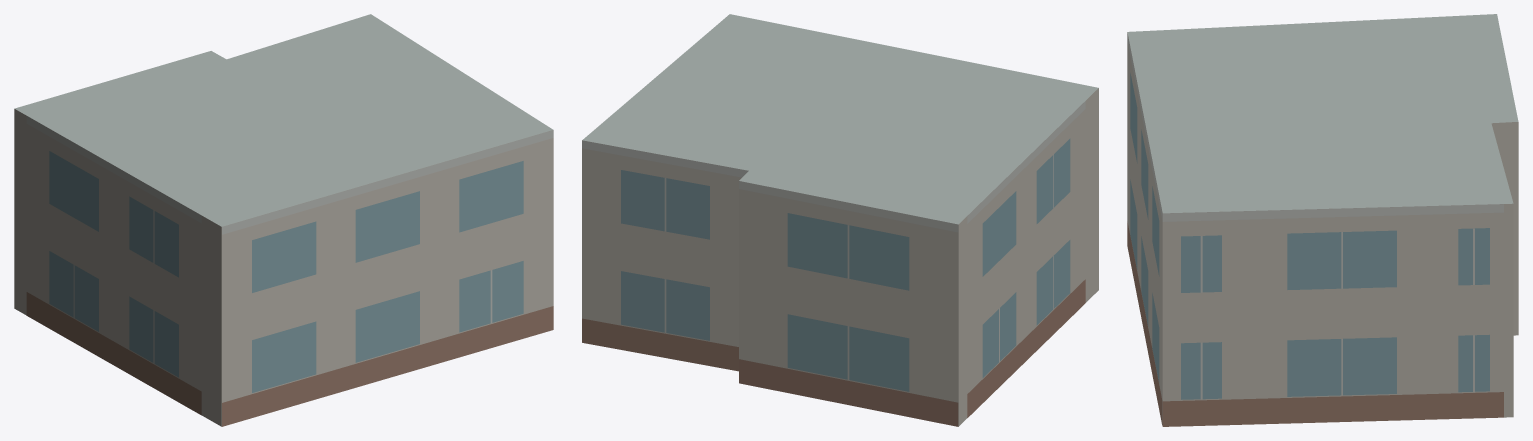
Rendered from survey-upis-32570054.glb.
3 renders of one model, left to right at view 1: azimuth 30°, elevation 25°; view 2: azimuth 150°, elevation 25°; view 3: azimuth 270°, elevation 25°, orthographic. The views are drawn at different scales.
Visible parts, largest first — view 1: survey-upis-32570054.tmp; view 2: survey-upis-32570054.tmp; view 3: survey-upis-32570054.tmp.
Part boxes in pixels (x1,y1,x2,y2): survey-upis-32570054.tmp: (14,14,553,426); survey-upis-32570054.tmp: (582,14,1098,426); survey-upis-32570054.tmp: (1127,14,1518,426).
Size of the model in its own units: 12.22 by 6.1 by 10.14.
